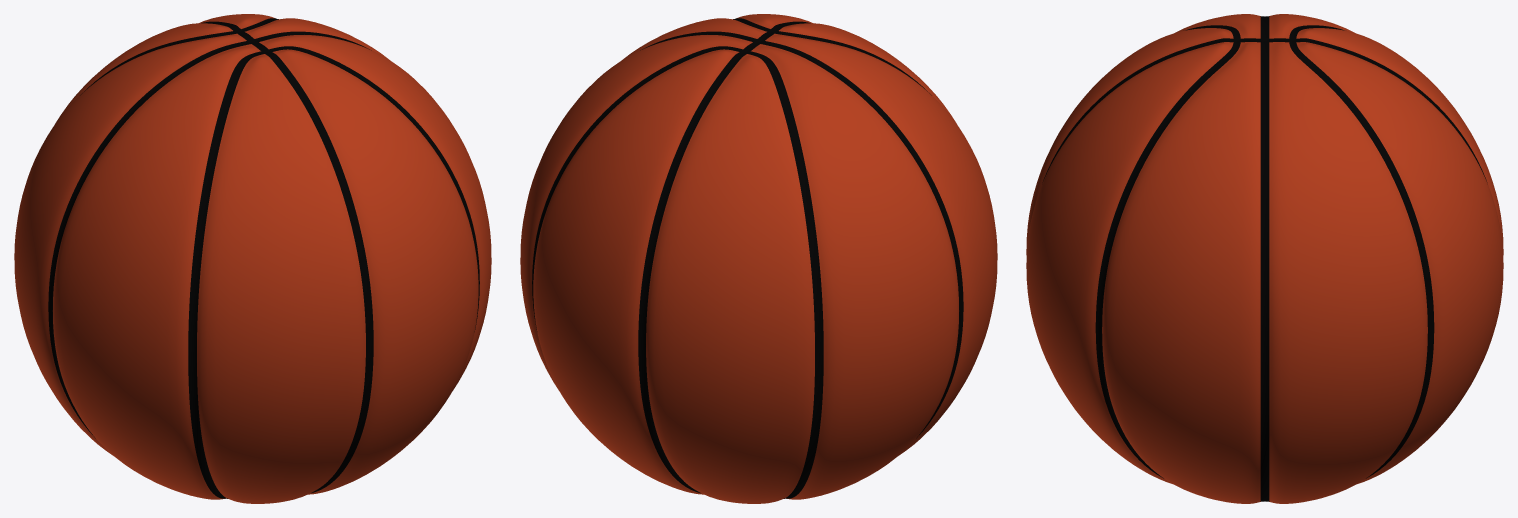
The model's file is basketball.fbx.
3 views of the same model, side by side, from view 1: azimuth 30°, elevation 25°; view 2: azimuth 150°, elevation 25°; view 3: azimuth 270°, elevation 25° (orthographic).
Visible parts, largest first — view 1: Sphere; view 2: Sphere; view 3: Sphere.
Boxes of the visible parts, x1=… form: Sphere: x1=14, y1=14, x2=491, y2=503; Sphere: x1=520, y1=14, x2=997, y2=503; Sphere: x1=1026, y1=14, x2=1503, y2=503.
Bounding box in the file's own units: 48.83 × 49.94 × 48.83.
